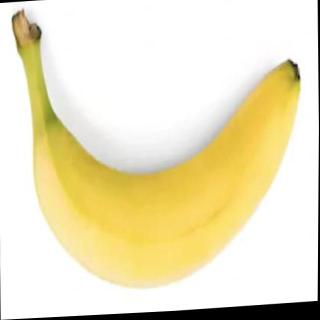banana: (29, 57, 306, 300)
